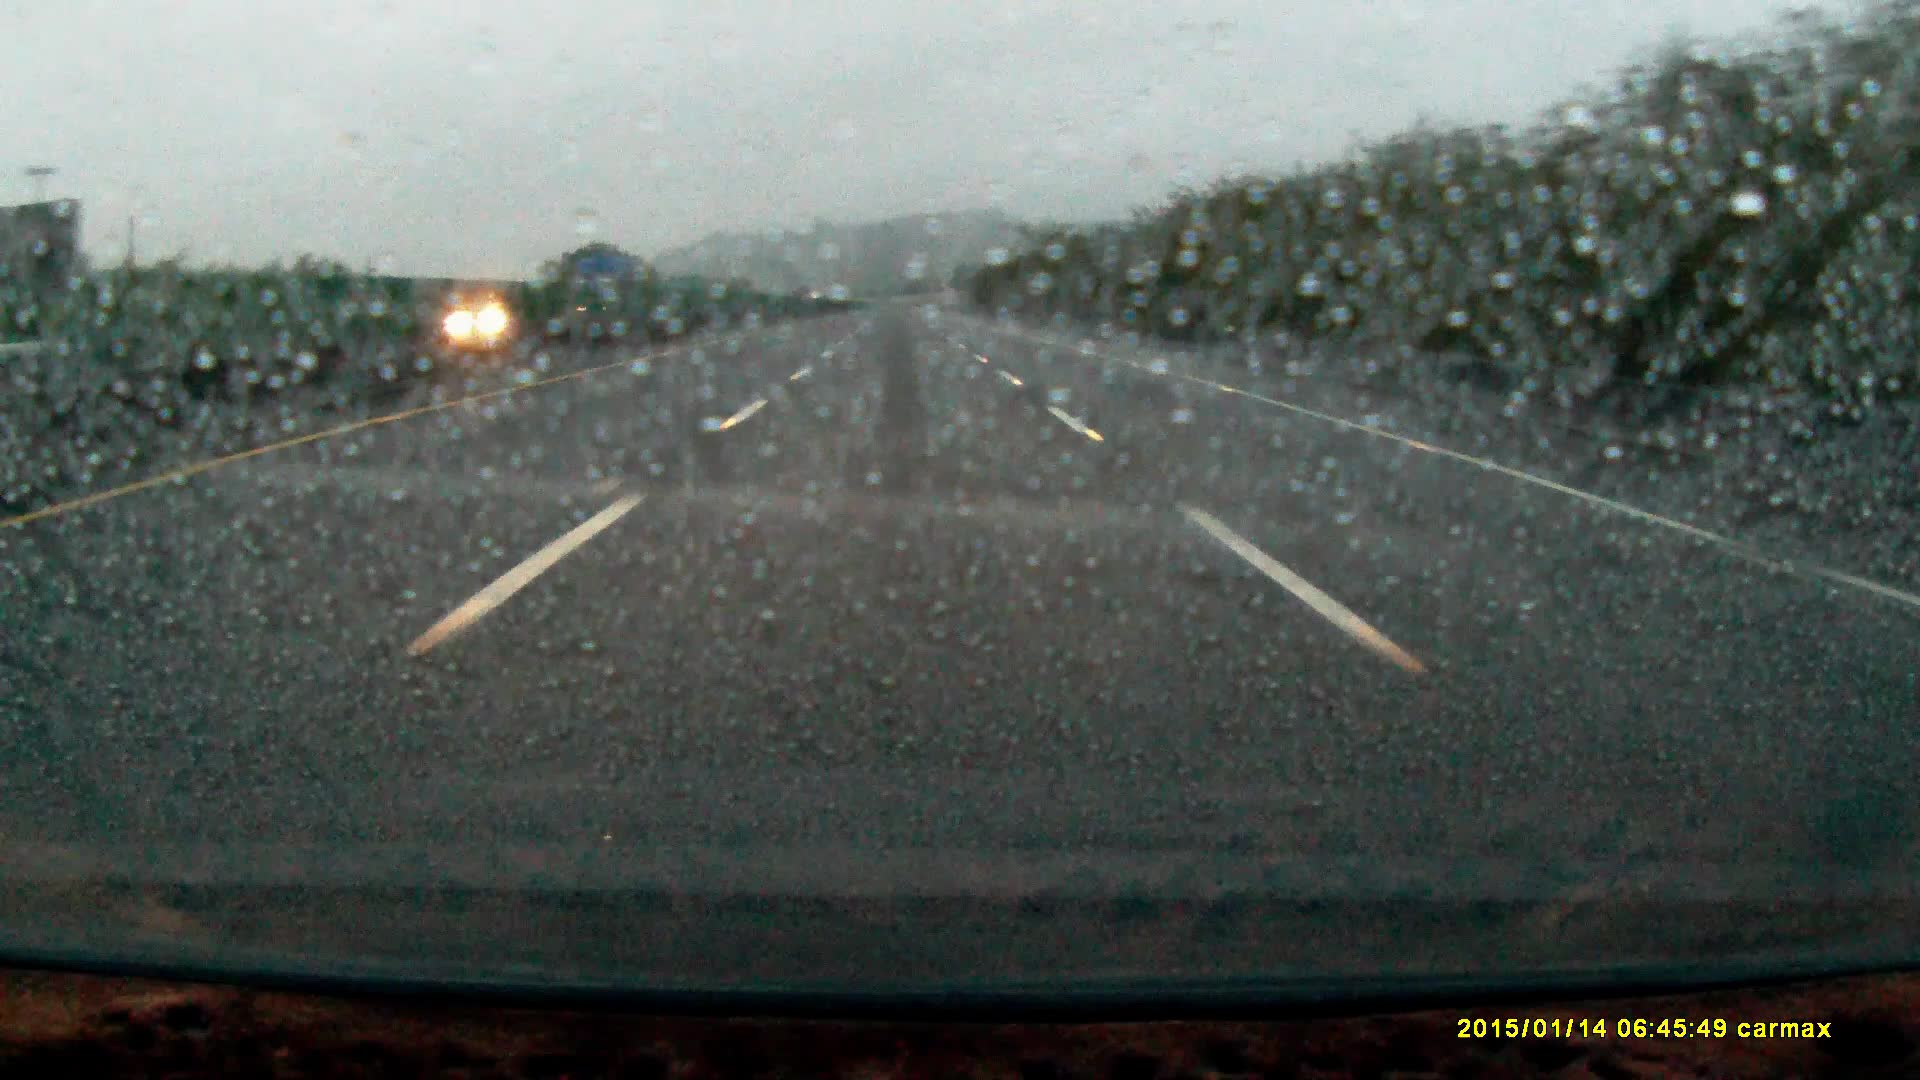vehicle: (455, 303, 521, 332)
